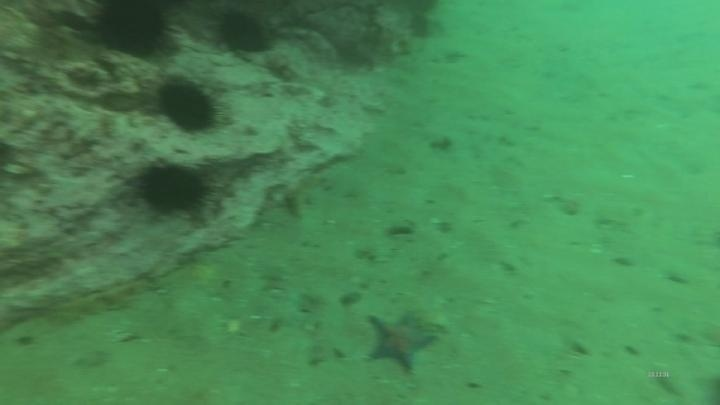echinus: (89, 1, 179, 63), (132, 157, 215, 221), (153, 74, 225, 137), (213, 7, 274, 58)
starfish: (362, 308, 440, 377)
